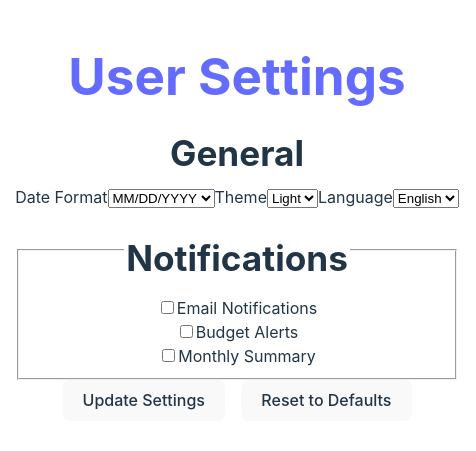
UserSettings Component › Error Handling › should display error message when update fails
This screenshot has width=476, height=451.
Select "Dark" in the dropdown labelled "Theme" at (292, 199), box x1=267 y1=189 x2=318 y2=208
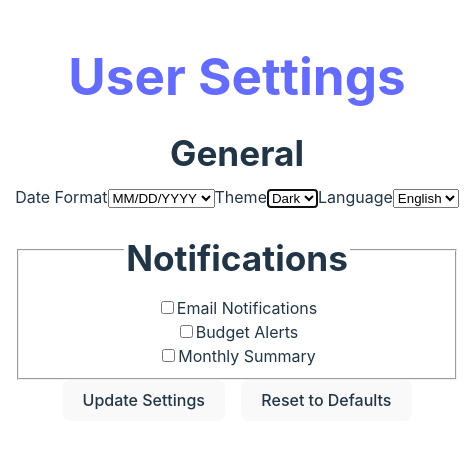
Click the button "Update Settings" at (144, 400), box x1=62 y1=380 x2=225 y2=421
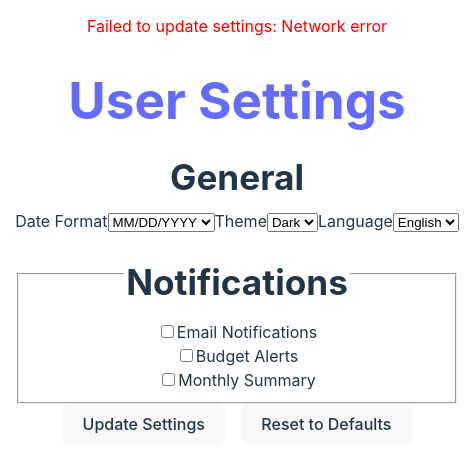
Expected: the text "Failed to update settings: Network error" is shown, x1=87 y1=16 x2=387 y2=36
